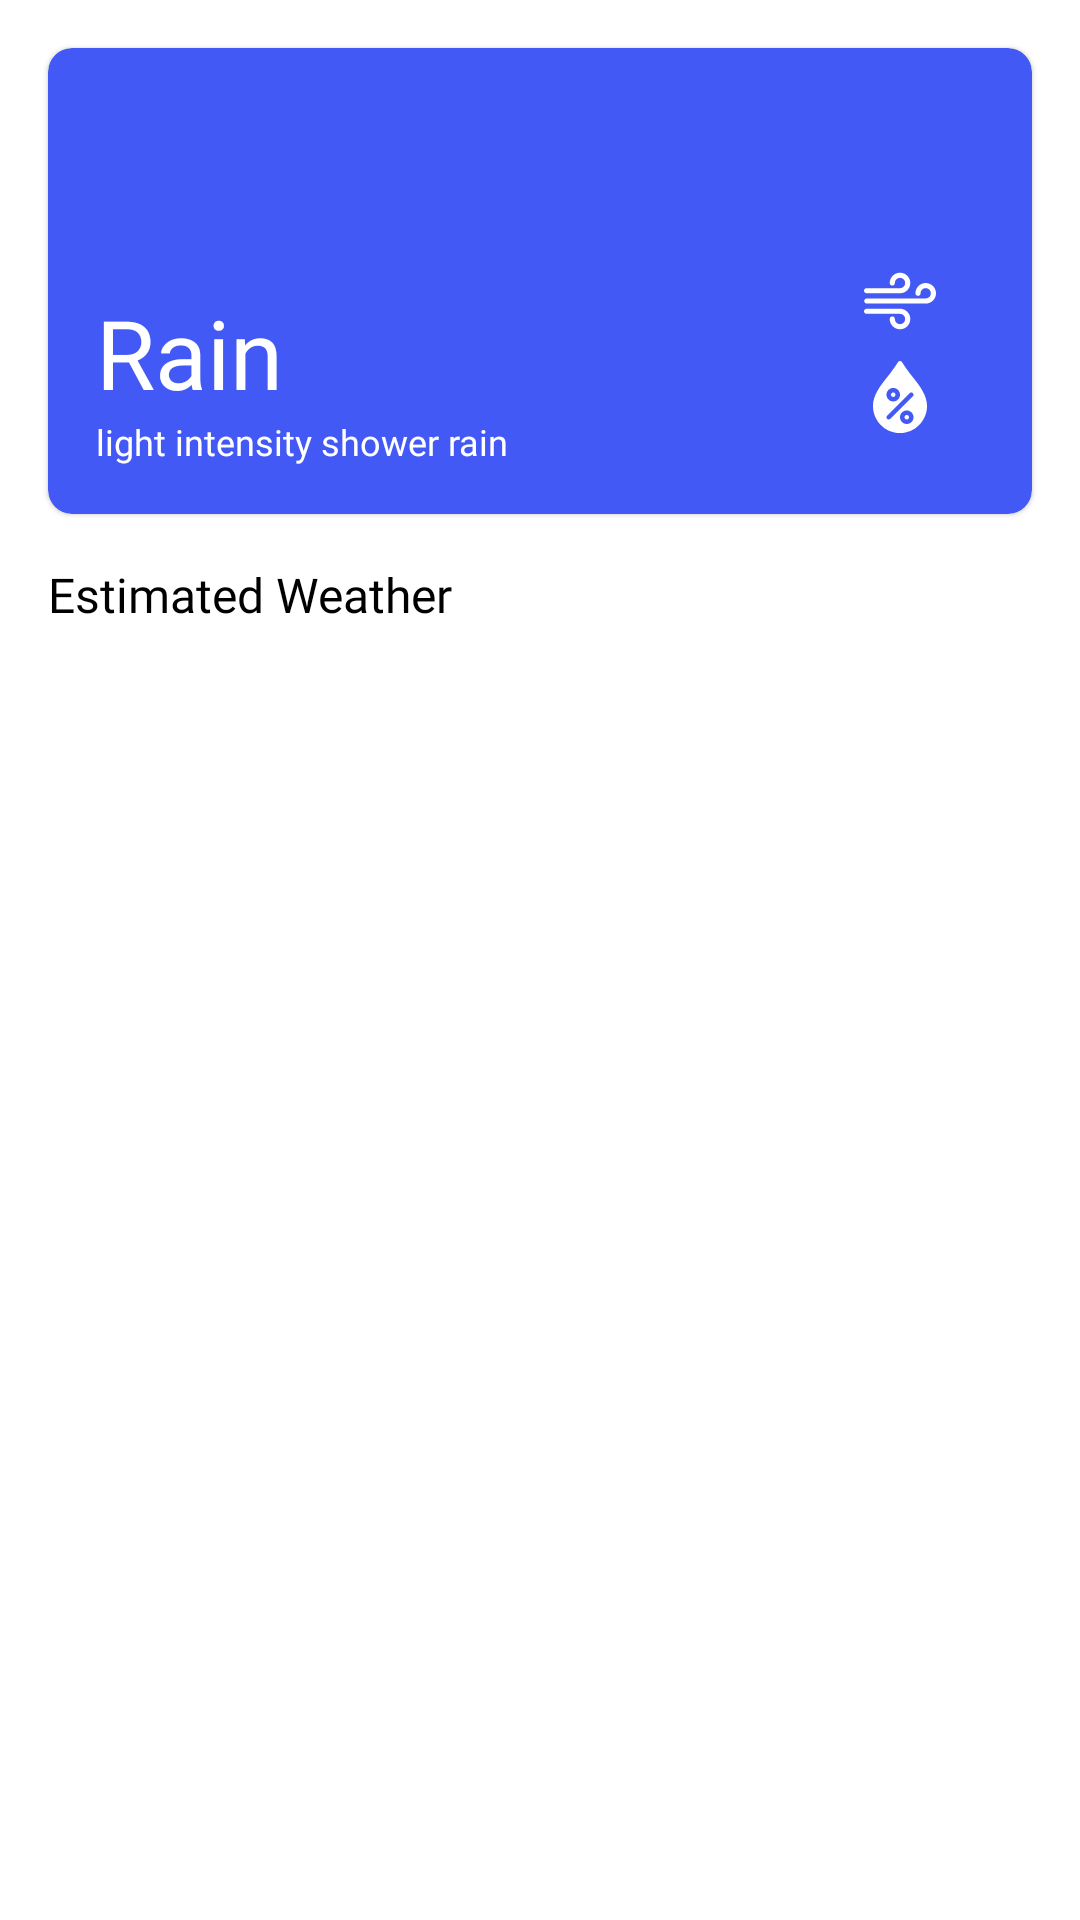

Icons on this 1080×1920 Android screen, each with the point to tap as (x,y):
humidity: (900,397)
